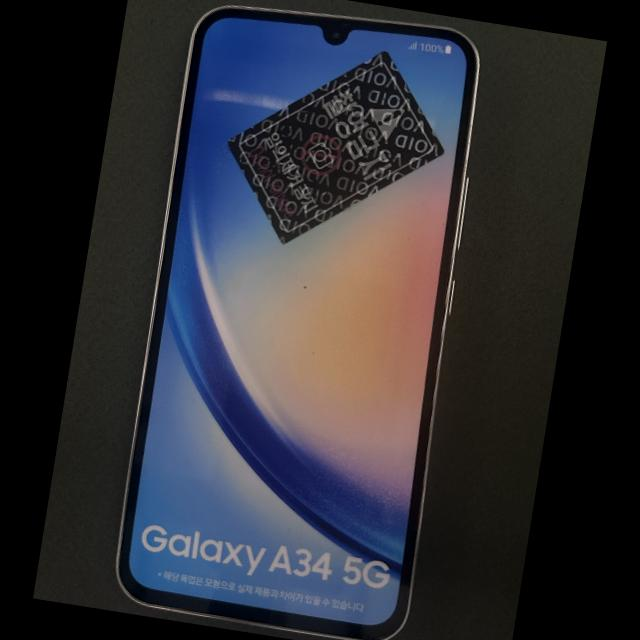lens: (330, 31, 341, 39)
phone: (117, 6, 479, 640)
sticker: (228, 51, 445, 246)
